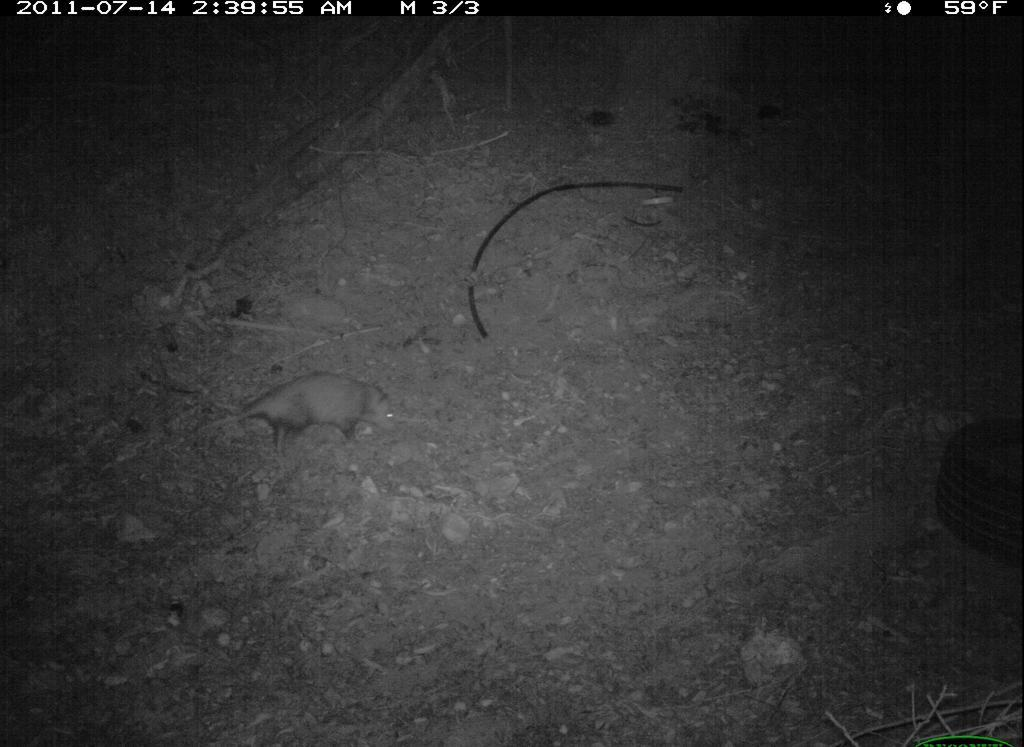opossum: (204, 365, 401, 455)
